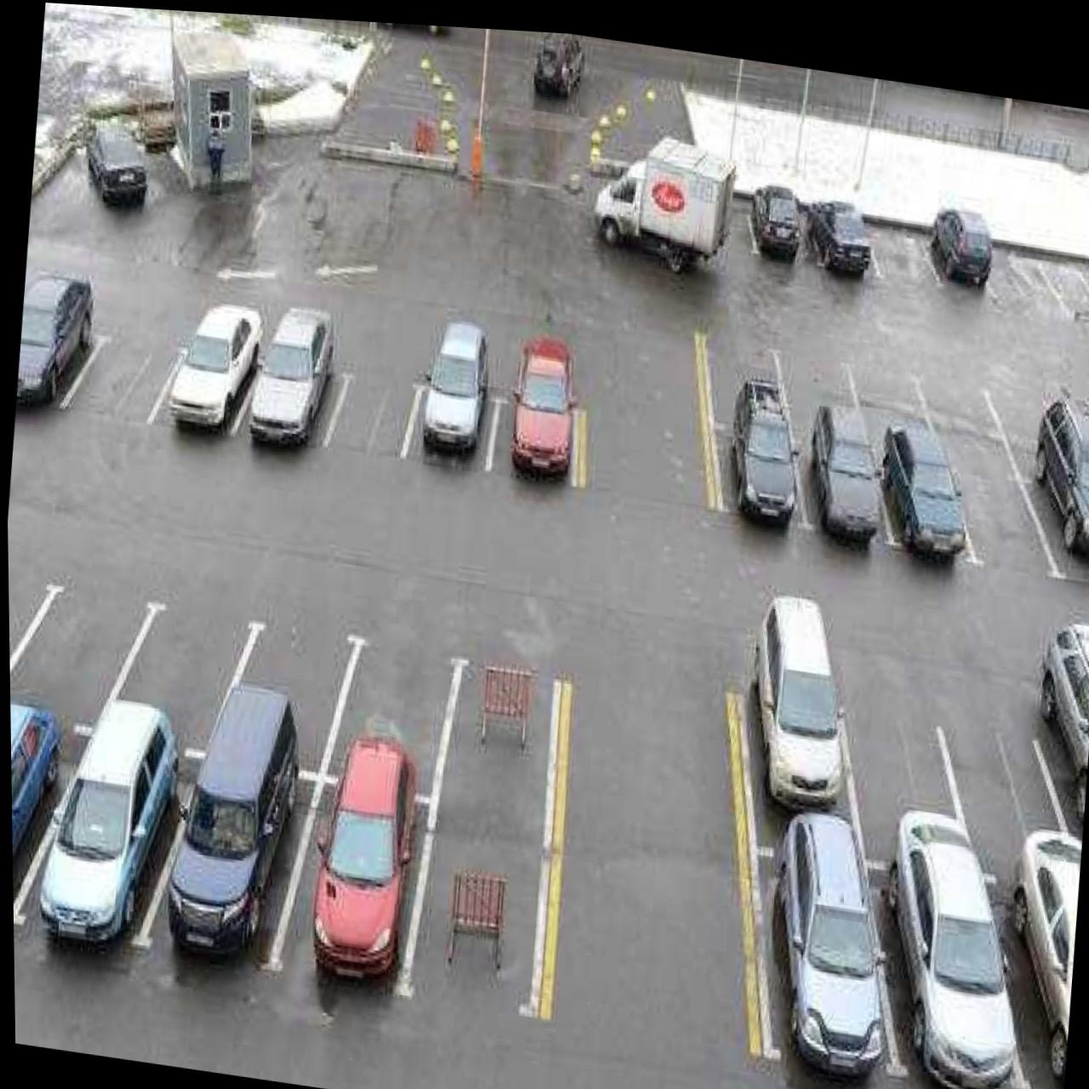cars: (733, 822, 913, 1089), (15, 721, 180, 964), (854, 878, 1018, 1089), (151, 754, 303, 980), (299, 776, 431, 990), (416, 806, 548, 1003), (729, 653, 859, 835), (442, 662, 562, 822), (868, 443, 970, 573), (784, 423, 885, 547), (491, 383, 585, 513), (244, 354, 339, 470), (158, 337, 250, 455), (710, 414, 796, 532), (411, 379, 503, 489), (13, 321, 98, 440), (1021, 442, 1089, 587), (917, 203, 997, 324), (740, 178, 820, 288), (808, 192, 878, 294)
empty: (206, 597, 359, 779), (99, 594, 256, 767), (844, 665, 980, 855), (952, 686, 1077, 879), (8, 563, 133, 736), (333, 626, 458, 799), (64, 318, 177, 452), (947, 460, 1058, 583), (312, 370, 418, 487), (994, 361, 1084, 468), (693, 325, 787, 422), (979, 220, 1062, 326), (926, 361, 1003, 469), (785, 344, 865, 444), (857, 349, 929, 456), (867, 203, 939, 305), (1040, 226, 1089, 342)
